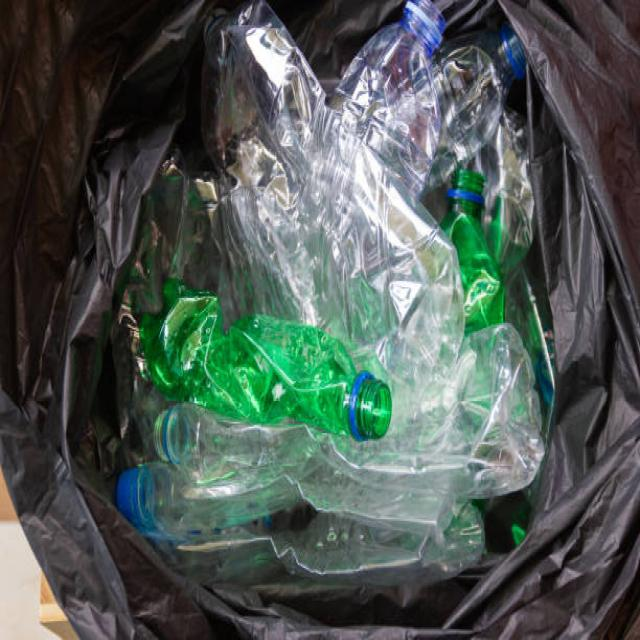plastic: (148, 91, 505, 602)
